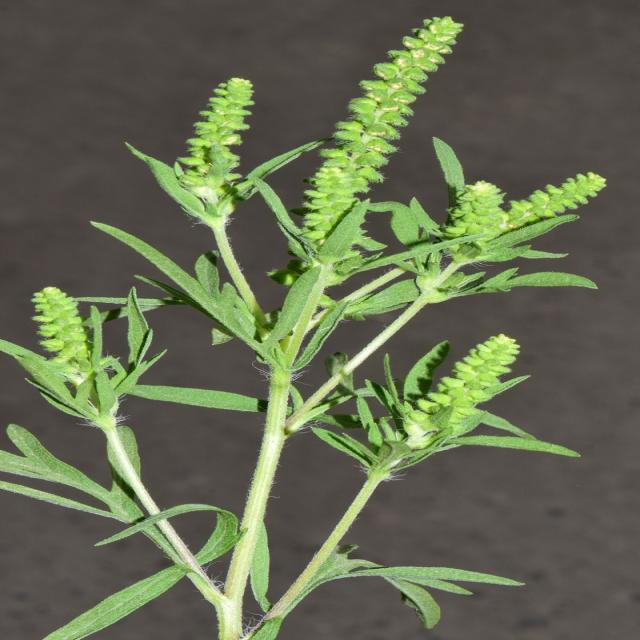ambrosia: (236, 314, 608, 471), (309, 4, 452, 262), (9, 270, 157, 438), (154, 51, 279, 236), (460, 141, 613, 283)
